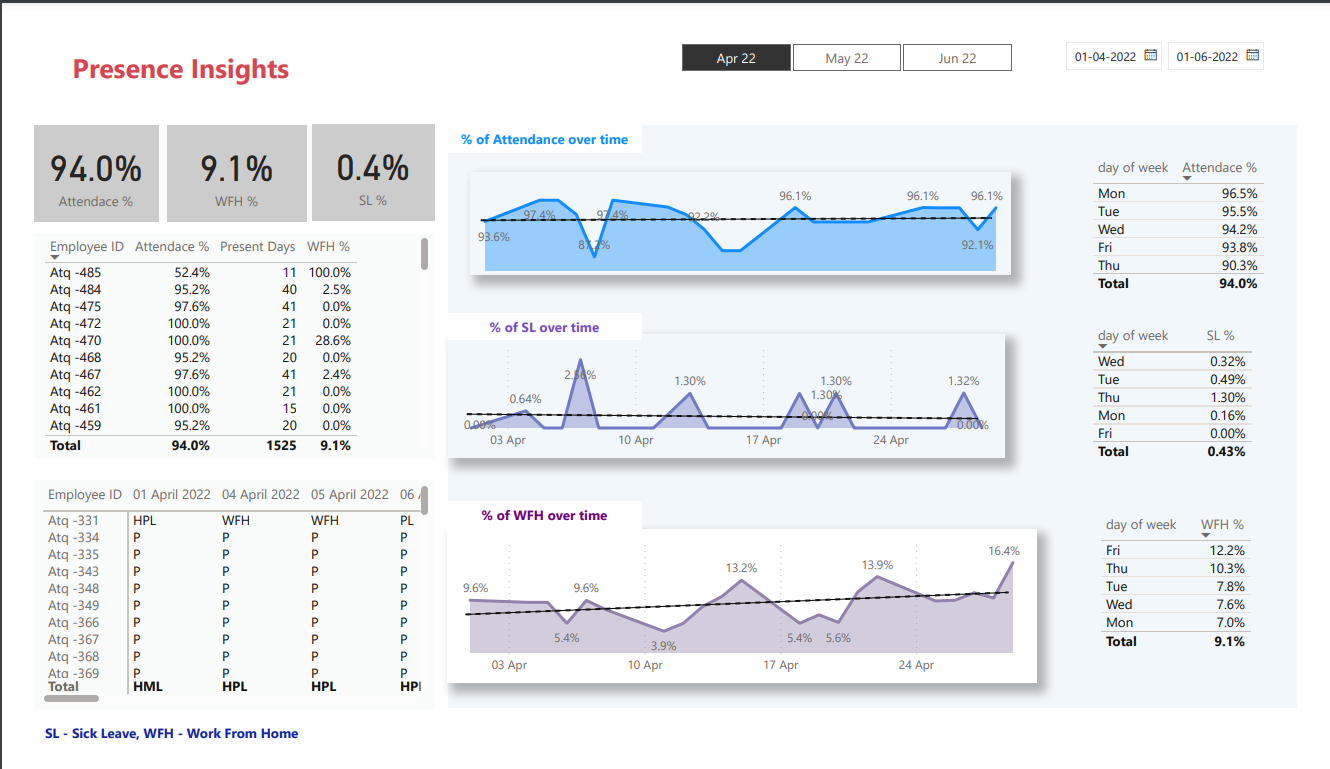

The page's visual inventory and layout, read from the dashboard file:
{"tool":"powerbi","page":{"name":"Presence Insights","canvas":[1280,720],"ordinal":0},"visuals":[{"type":"textbox","box":[7.8,205.6,399.9,225.5],"z":0},{"type":"textbox","box":[7.8,453.3,399.8,227.6],"z":1000},{"type":"textbox","box":[422.3,97.9,848.1,582.3],"z":2000},{"type":"textbox","box":[7.8,98,399.9,95.4],"z":3000},{"type":"tableEx","fields":{"Values":["Final Data.Employee ID","Measures (2).Attendace %","Measures (2).Present Days","Measures (2).WFH %"]},"box":[12.6,205.2,394.9,225.7],"z":4000},{"type":"slicer","fields":{"Values":["Final Data.Date"]},"box":[1027.3,5.2,252.7,46.3],"z":5000},{"type":"slicer","fields":{"Values":["Final Data.MMM YY"]},"box":[630.4,10.5,379.5,35.8],"z":6000},{"type":"areaChart","fields":{"Category":["Final Data.MMM YY","Final Data.Date"],"Y":["Measures (2).WFH %"]},"box":[420.7,502.3,589,153.5],"z":7000},{"type":"areaChart","fields":{"Category":["Final Data.WeekNo","Final Data.Date"],"Y":["Measures (2).Attendace %"]},"box":[444.1,144.9,540.4,103.2],"z":8000},{"type":"card","fields":{"Values":["Measures (2).Attendace %"]},"box":[7.8,98,124,96.3],"z":9000},{"type":"card","fields":{"Values":["Measures (2).WFH %"]},"box":[141.4,98,138.8,96.3],"z":10000},{"type":"areaChart","fields":{"Category":["Final Data.MMM YY","Final Data.Date"],"Y":["Measures (2).SL %"]},"box":[422.5,307.1,556,124],"z":11000},{"type":"card","fields":{"Values":["Measures (2).SL %"]},"box":[286.3,97.2,121.4,96.3],"z":13000},{"type":"textbox","box":[0,0,309.9,65.4],"z":14000},{"type":"textbox","box":[422.4,98.2,192.5,27.5],"z":15000},{"type":"textbox","box":[422.5,286.3,192.6,26.9],"z":16000},{"type":"textbox","box":[422.1,473.7,192.6,27.2],"z":17000},{"type":"pivotTable","fields":{"Rows":["Final Data.Employee ID"],"Columns":["Final Data.Date"],"Values":["Min(Final Data.Value)"]},"box":[11.7,453.3,395.9,227.6],"z":18000},{"type":"textbox","box":[13.6,691.6,289.8,28.2],"z":19000},{"type":"tableEx","fields":{"Values":["Final Data.day of week","Measures (2).Attendace %"]},"box":[1060.9,125.8,209.9,145.7],"z":20000},{"type":"tableEx","fields":{"Values":["Final Data.day of week","Measures (2).SL %"]},"box":[1060.9,294.1,191.7,167.4],"z":21000},{"type":"tableEx","fields":{"Values":["Final Data.day of week","Measures (2).WFH %"]},"box":[1068.7,483.2,170,167.4],"z":22000}]}

Visuals, with their boxes in screenshot pixels (x1, y1, x2, y2), scaled from the page's 1280x720 canvas onto the 1330x769 screenshot:
textbox: crop(8, 220, 424, 460)
textbox: crop(8, 484, 424, 727)
textbox: crop(439, 105, 1320, 726)
textbox: crop(8, 105, 424, 207)
tableEx - Final Data.Employee ID x Measures (2).Attendace %: crop(13, 219, 423, 460)
slicer - Final Data.Date: crop(1067, 6, 1329, 55)
slicer - Final Data.MMM YY: crop(655, 11, 1049, 49)
areaChart - Final Data.MMM YY x Final Data.Date: crop(437, 536, 1049, 700)
areaChart - Final Data.WeekNo x Final Data.Date: crop(461, 155, 1023, 265)
card - Measures (2).Attendace %: crop(8, 105, 137, 208)
card - Measures (2).WFH %: crop(147, 105, 291, 208)
areaChart - Final Data.MMM YY x Final Data.Date: crop(439, 328, 1017, 460)
card - Measures (2).SL %: crop(297, 104, 424, 207)
textbox: crop(0, 0, 322, 70)
textbox: crop(439, 105, 639, 134)
textbox: crop(439, 306, 639, 335)
textbox: crop(439, 506, 639, 535)
pivotTable - Final Data.Employee ID x Final Data.Date: crop(12, 484, 424, 727)
textbox: crop(14, 739, 315, 768)
tableEx - Final Data.day of week x Measures (2).Attendace %: crop(1102, 134, 1320, 290)
tableEx - Final Data.day of week x Measures (2).SL %: crop(1102, 314, 1302, 493)
tableEx - Final Data.day of week x Measures (2).WFH %: crop(1110, 516, 1287, 695)
